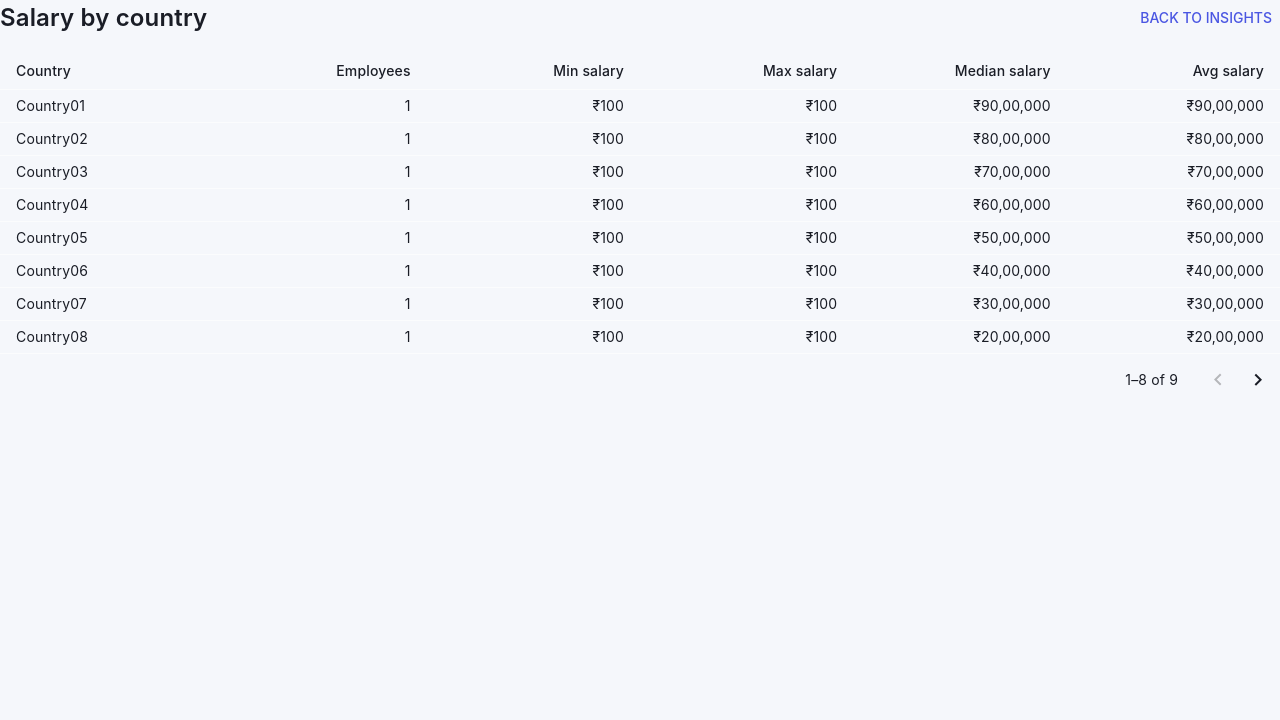
it: InsightsCountriesPage › shows empty message in job titles dialog when country has no job titles
Click the cell "Country01".
click(107, 106)  # box [0,89,213,122]
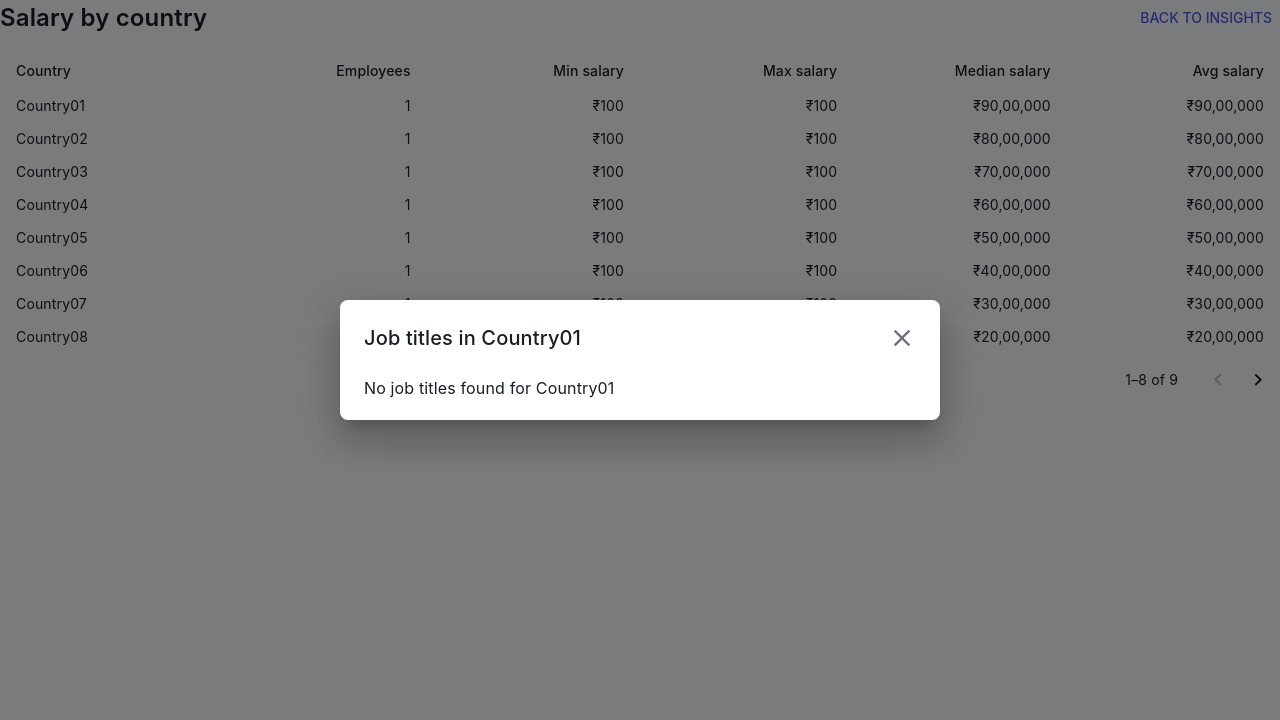
Expected: the text "No job titles found for Country01" is shown, [364,378,614,398]
